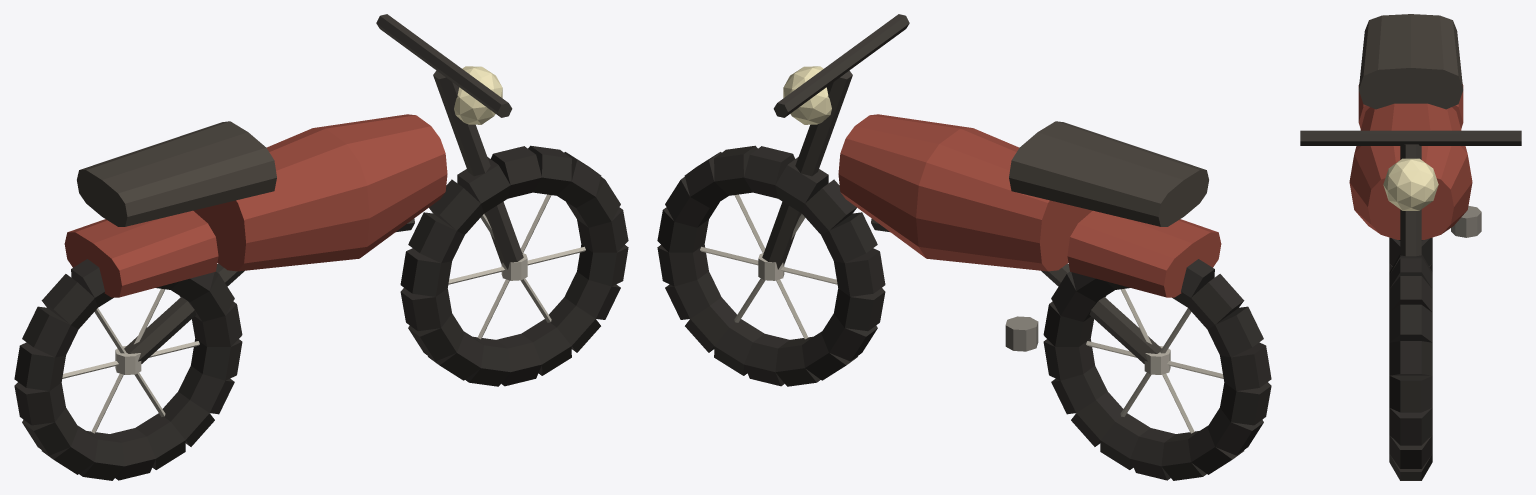
The model's file is motosiklet-kiremit.glb.
3 renders of one model, left to right at view 1: azimuth 30°, elevation 25°; view 2: azimuth 150°, elevation 25°; view 3: azimuth 270°, elevation 25°, orthographic. The views are drawn at different scales.
Parts seen in each view (by area): view 1: lastik, a_kiremit, ic, demir, jant, far; view 2: lastik, a_kiremit, ic, demir, jant, far, tampon; view 3: lastik, a_kiremit, ic, demir, far, tampon.
Boxes of the visible parts, x1=… form: lastik: x1=14, y1=145, x2=628, y2=480; a_kiremit: x1=64, y1=114, x2=447, y2=297; ic: x1=77, y1=121, x2=276, y2=226; demir: x1=124, y1=14, x2=523, y2=363; jant: x1=62, y1=194, x2=585, y2=433; far: x1=454, y1=66, x2=502, y2=124; lastik: x1=657, y1=145, x2=1271, y2=480; a_kiremit: x1=838, y1=114, x2=1221, y2=297; ic: x1=1009, y1=121, x2=1208, y2=226; demir: x1=762, y1=14, x2=1161, y2=363; jant: x1=700, y1=194, x2=1223, y2=433; far: x1=783, y1=66, x2=831, y2=124; tampon: x1=1005, y1=316, x2=1038, y2=351; lastik: x1=1389, y1=237, x2=1432, y2=480; a_kiremit: x1=1349, y1=84, x2=1472, y2=239; ic: x1=1358, y1=14, x2=1463, y2=109; demir: x1=1300, y1=130, x2=1521, y2=256; far: x1=1383, y1=158, x2=1438, y2=210; tampon: x1=1451, y1=206, x2=1481, y2=237.
Bounding box in the file's own units: 2.06 × 1.1 × 0.72.
